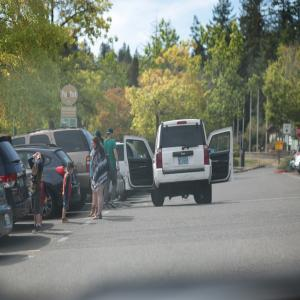Vehicle-registration-plate: (180, 157, 190, 166)
